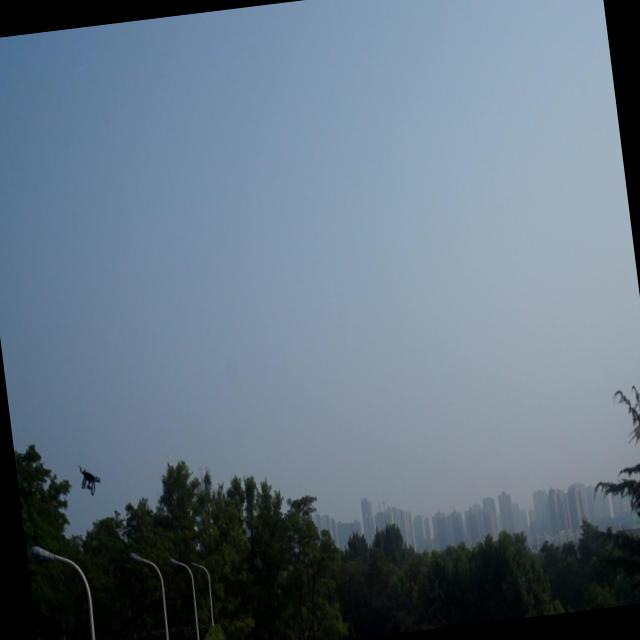drone: (76, 460, 106, 500)
